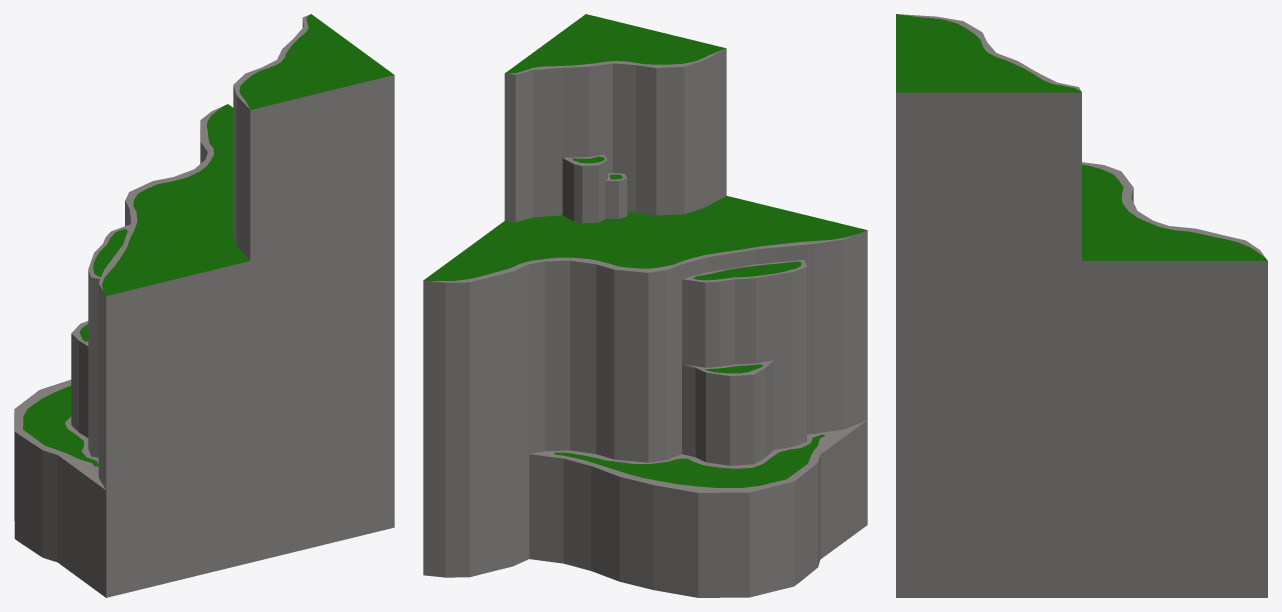
Rendered from MountainStairCorner.fbx.
The picture shows the model from 3 angles, left to right: view 1: azimuth 30°, elevation 25°; view 2: azimuth 150°, elevation 25°; view 3: azimuth 270°, elevation 25°; orthographic projection. The views are drawn at different scales.
Visible parts, largest first — view 1: Plane.018; view 2: Plane.018; view 3: Plane.018.
Part boxes in pixels (x1,y1,x2,y2): Plane.018: (14, 14, 394, 597); Plane.018: (423, 14, 867, 597); Plane.018: (896, 14, 1267, 597).
Bounding box in the file's own units: 51.41 × 75 × 50.
